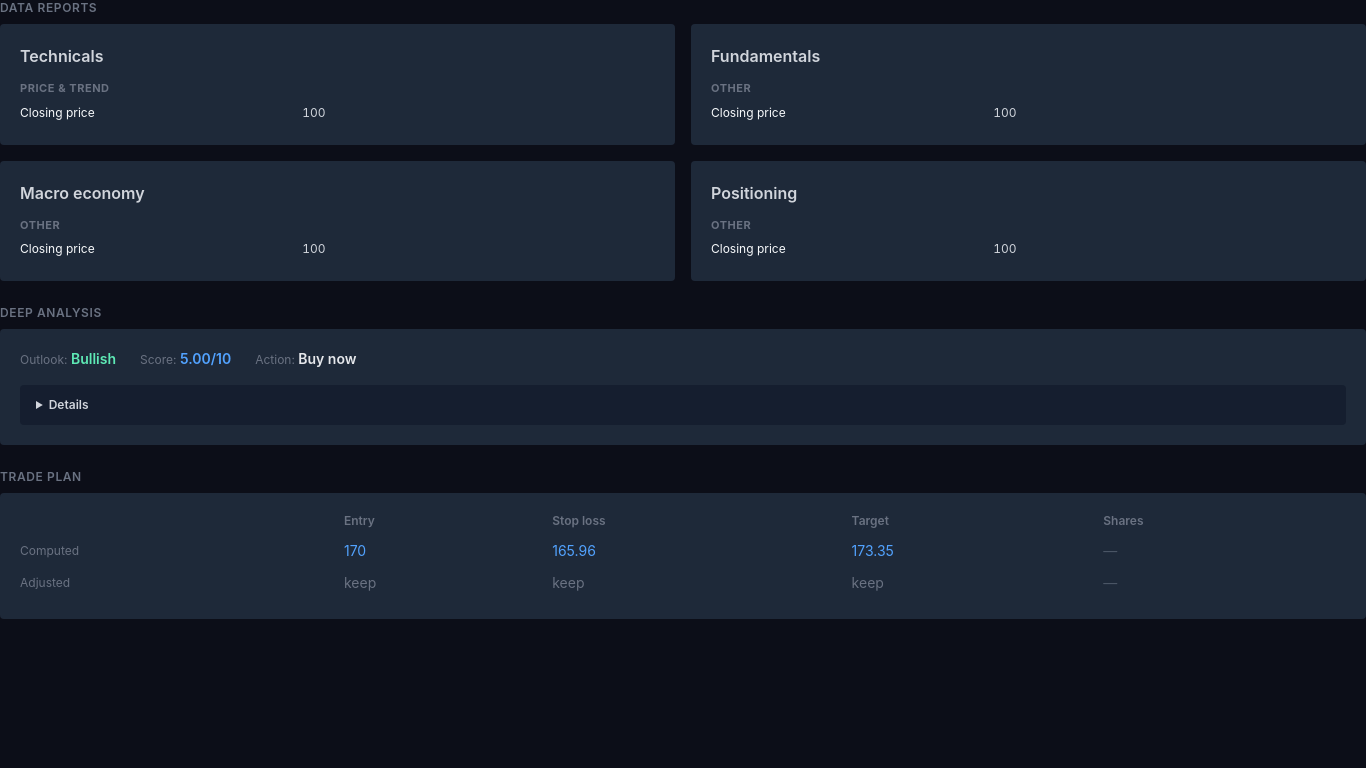
Test: AltResult › expands the prose input groups: pivot supports, nearest resistance
The image size is (1366, 768).
Click the button with test id "alt-level-computed-entry".
click(355, 551)  # box [344,541,366,561]
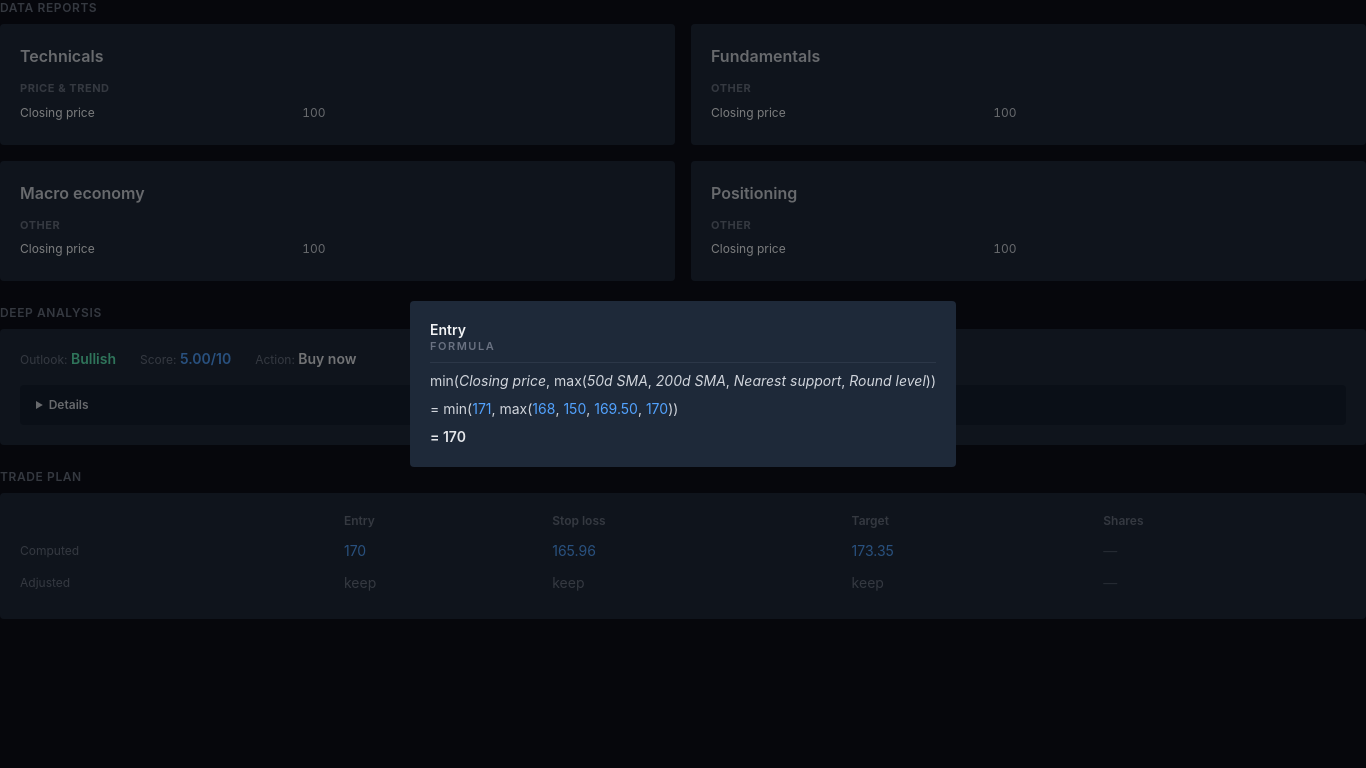
Expected: the element with test id "alt-formula-words" reads "min(Closing price, max(50d SMA, 200d SMA, Nearest support, Round level))", [430,371,936,391]
Expected: the button named "50d SMA" reads "168", [532,399,555,419]
Expected: the button named "Nearest support" reads "169.50", [594,399,638,419]
Press Escape
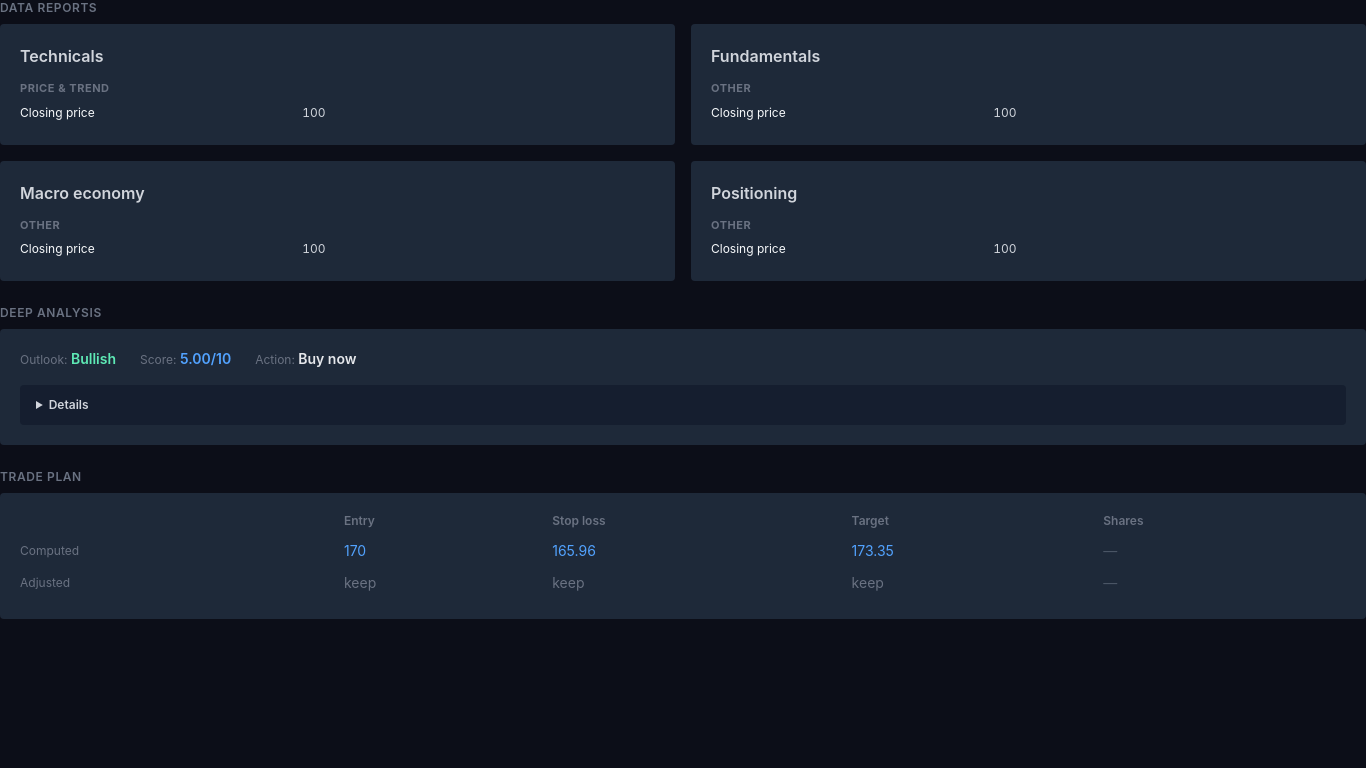
Click the button with test id "alt-level-computed-take_profit".
click(873, 551)  # box [852,541,894,561]
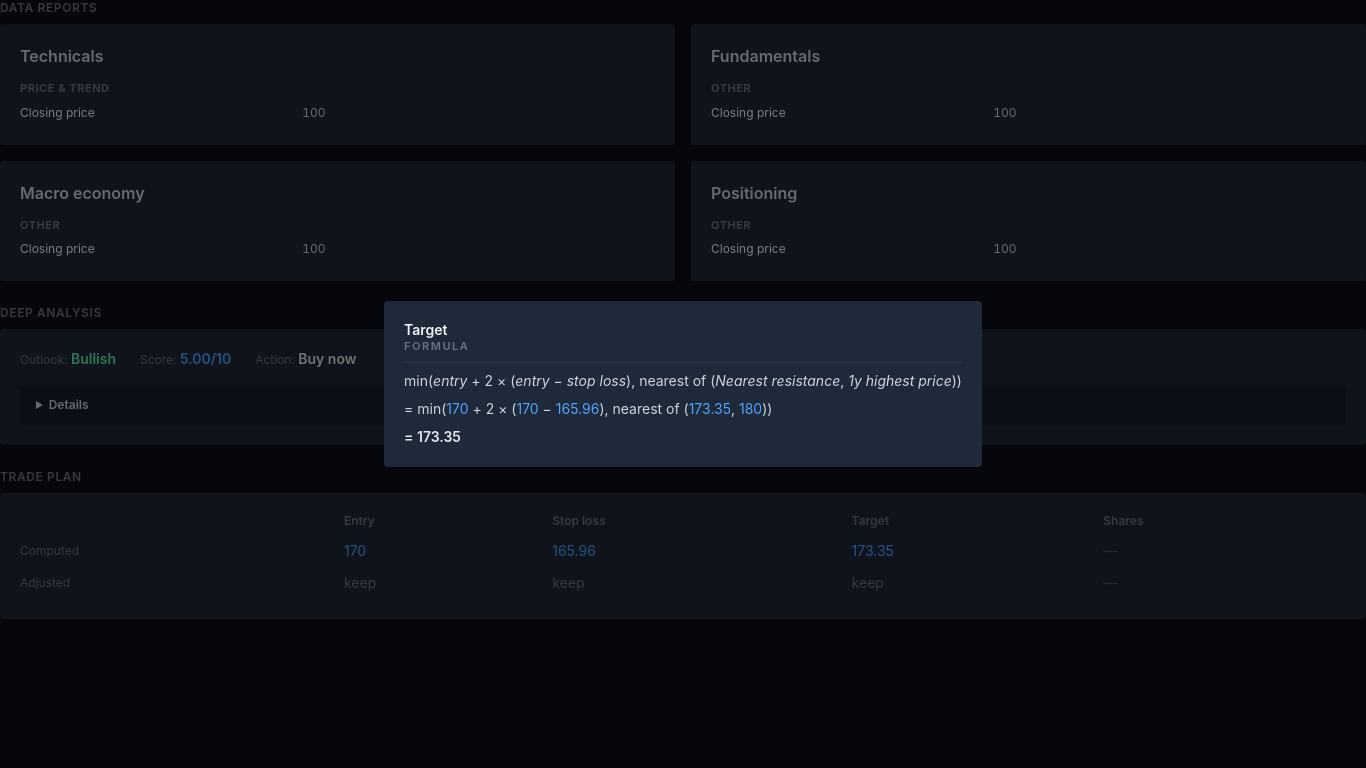
Expected: the button named "Nearest resistance" reads "173.35", [689,399,731,419]
Expected: the button named "1y highest price" reads "180", [739,399,762,419]
Expected: the text "= 173.35" is shown, [404,428,461,445]
